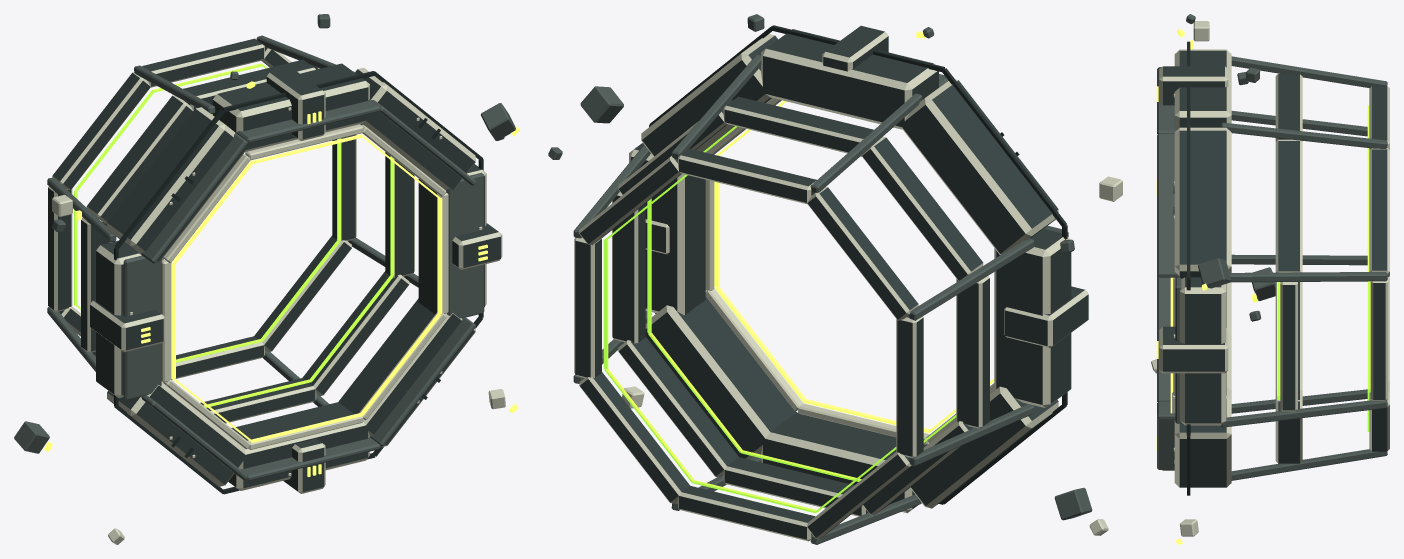
File: spawnloft-portal.glb
The picture shows the model from 3 angles, left to right: view 1: azimuth 30°, elevation 25°; view 2: azimuth 150°, elevation 25°; view 3: azimuth 270°, elevation 25°; orthographic projection. The views are drawn at different scales.
Parts seen in each view (by area): view 1: Gate_Obsidian_graphite, Tunnel_Obsidian_graphite, Gate_Ceramic_bevel, Gate_Cut_graphite, Tunnel_Ceramic_bevel, Gate_Spawn_ion_lime, Tunnel_Cut_graphite, Tunnel_Secondary_ion_lime, Gate_Deep_aperture, Shards_Cut_graphite, Shards_Ceramic_bevel; view 2: Gate_Obsidian_graphite, Tunnel_Obsidian_graphite, Gate_Ceramic_bevel, Tunnel_Ceramic_bevel, Tunnel_Cut_graphite, Tunnel_Secondary_ion_lime, Gate_Deep_aperture, Shards_Cut_graphite, Gate_Spawn_ion_lime, Shards_Ceramic_bevel; view 3: Gate_Obsidian_graphite, Tunnel_Obsidian_graphite, Tunnel_Cut_graphite, Gate_Ceramic_bevel, Gate_Cut_graphite, Tunnel_Ceramic_bevel, Shards_Cut_graphite, Tunnel_Secondary_ion_lime, Gate_Deep_aperture, Shards_Ceramic_bevel, Gate_Spawn_ion_lime.
Boxes of the visible parts, <box> form: Gate_Obsidian_graphite: <box>90,63,500,491</box>; Tunnel_Obsidian_graphite: <box>48,38,413,422</box>; Gate_Ceramic_bevel: <box>90,67,502,493</box>; Gate_Cut_graphite: <box>123,99,484,480</box>; Tunnel_Ceramic_bevel: <box>48,44,414,423</box>; Gate_Spawn_ion_lime: <box>141,111,487,476</box>; Tunnel_Cut_graphite: <box>47,35,418,406</box>; Tunnel_Secondary_ion_lime: <box>74,63,394,407</box>; Gate_Deep_aperture: <box>114,71,483,494</box>; Shards_Cut_graphite: <box>14,14,515,453</box>; Shards_Ceramic_bevel: <box>52,194,505,544</box>; Gate_Obsidian_graphite: <box>631,25,1088,508</box>; Tunnel_Obsidian_graphite: <box>575,96,989,539</box>; Gate_Ceramic_bevel: <box>629,32,1088,513</box>; Tunnel_Ceramic_bevel: <box>574,105,989,541</box>; Tunnel_Cut_graphite: <box>573,55,1034,544</box>; Tunnel_Secondary_ion_lime: <box>603,126,956,513</box>; Gate_Deep_aperture: <box>649,25,1067,504</box>; Shards_Cut_graphite: <box>548,14,1092,520</box>; Gate_Spawn_ion_lime: <box>714,101,994,432</box>; Shards_Ceramic_bevel: <box>622,176,1122,535</box>; Gate_Obsidian_graphite: <box>1163,50,1226,487</box>; Tunnel_Obsidian_graphite: <box>1278,74,1387,463</box>; Tunnel_Cut_graphite: <box>1220,56,1387,480</box>; Gate_Ceramic_bevel: <box>1159,49,1231,487</box>; Gate_Cut_graphite: <box>1157,67,1181,469</box>; Tunnel_Ceramic_bevel: <box>1275,73,1389,463</box>; Shards_Cut_graphite: <box>1186,14,1275,321</box>; Tunnel_Secondary_ion_lime: <box>1277,105,1370,431</box>; Gate_Deep_aperture: <box>1173,41,1190,495</box>; Shards_Ceramic_bevel: <box>1151,21,1209,536</box>; Gate_Spawn_ion_lime: <box>1156,86,1173,450</box>.
Size of the model in its own units: 7.15 by 6.14 by 3.11.
